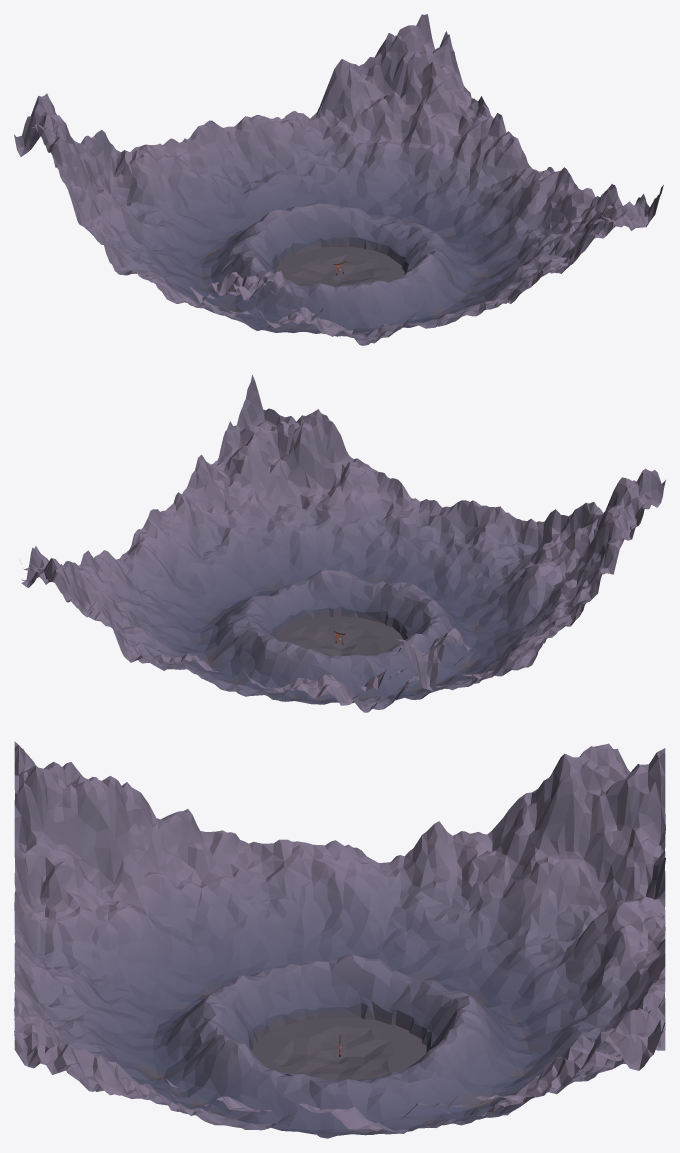
File: lake.glb
3 views of the same model, one above another, from view 1: azimuth 30°, elevation 25°; view 2: azimuth 150°, elevation 25°; view 3: azimuth 270°, elevation 25° (orthographic). The views are drawn at different scales.
Visible parts, largest first — view 1: terrain; view 2: terrain; view 3: terrain.
Part boxes in pixels (<box>): terrain: <box>14,14,663,345</box>; terrain: <box>21,375,665,712</box>; terrain: <box>14,741,665,1138</box>.
Bounding box in the file's own units: 261 × 85.31 × 261.
